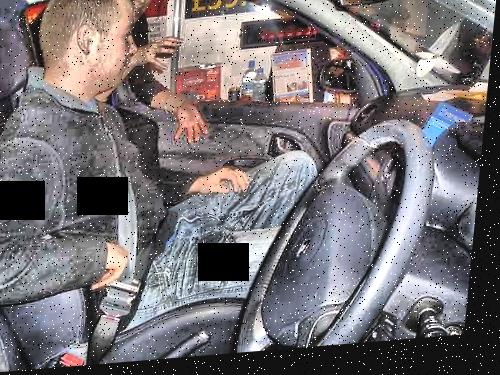seatbelt: (76, 101, 174, 330)
